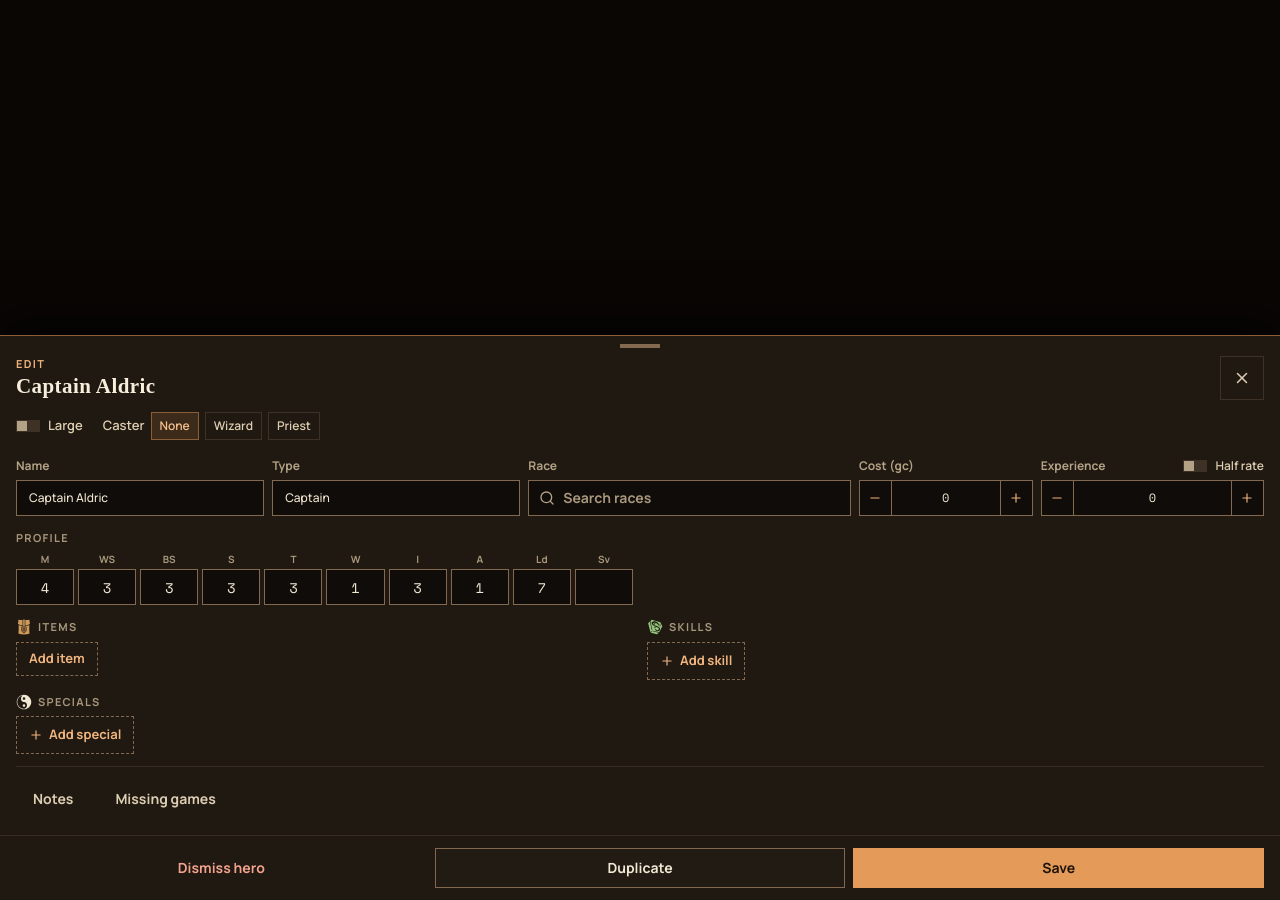
Scenario: The Edit form's bar on a phone › still says what a dismissal loses, and keeps Save beside it
Click the button "Dismiss hero" at (221, 868), box [16,848,427,888]
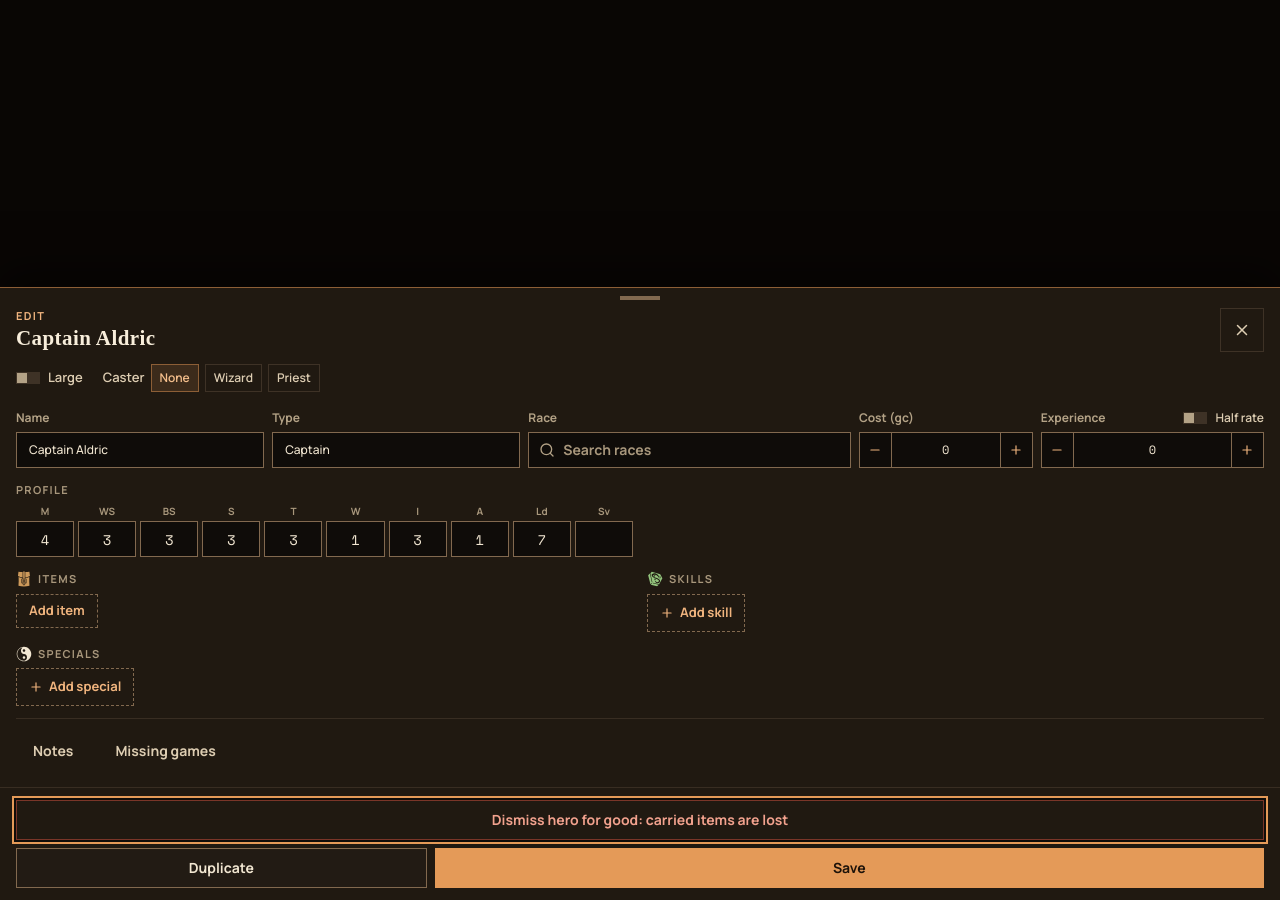
Check: the button "Save" is shown, box [435,848,1264,888]
Check: the button "Dismiss hero for good: carried items are lost" is shown, box [16,800,1264,840]
